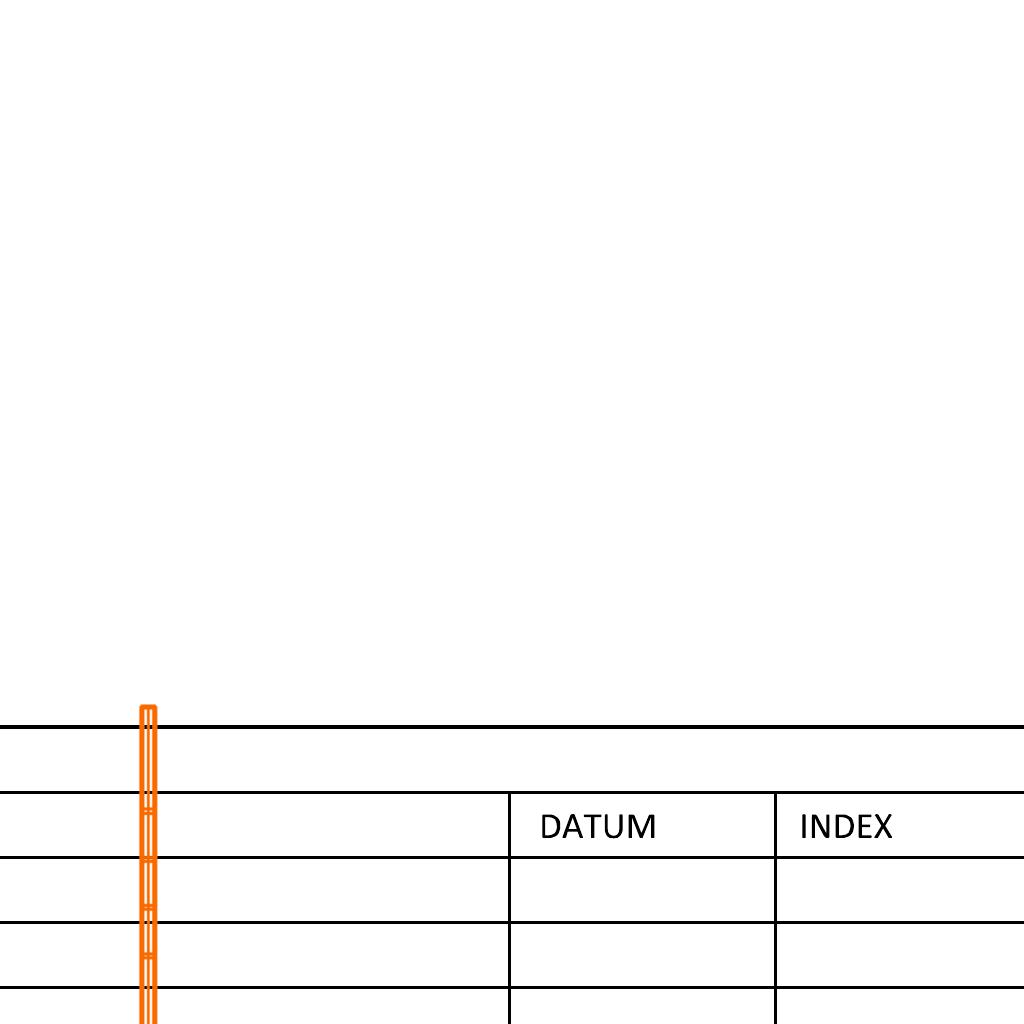Ambulanz_Pendelleuchte_LED: (133, 699, 189, 1024)
